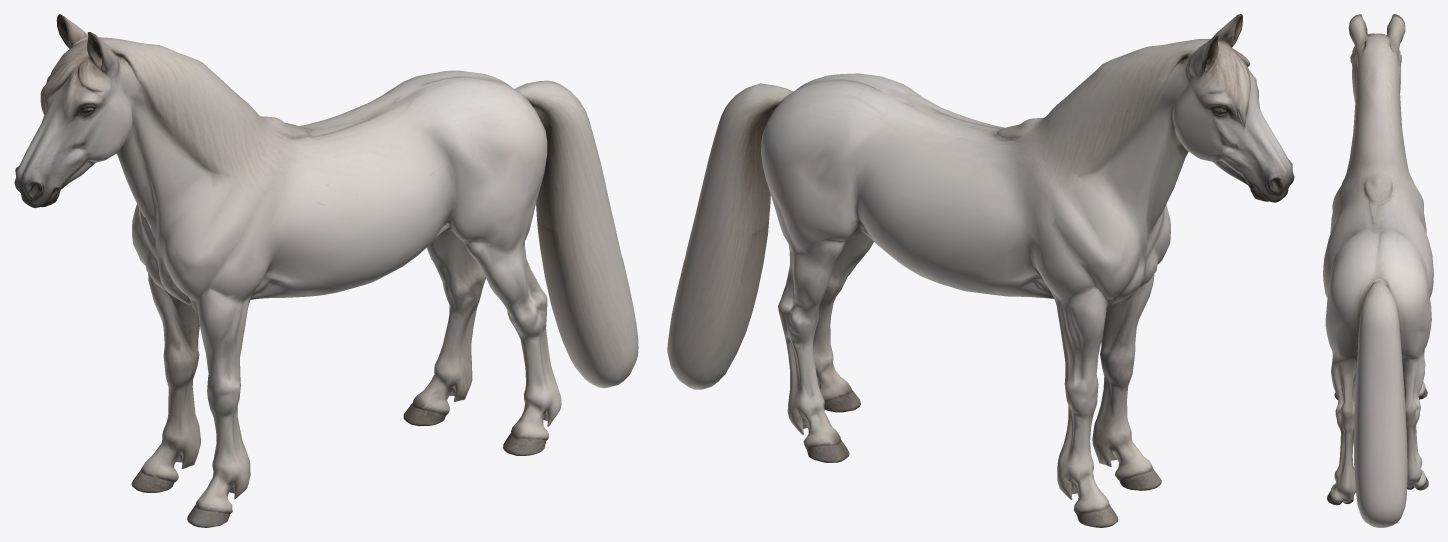
The picture shows the model from 3 angles, left to right: view 1: azimuth 30°, elevation 25°; view 2: azimuth 150°, elevation 25°; view 3: azimuth 270°, elevation 25°; orthographic projection. The views are drawn at different scales.
Visible parts, largest first — view 1: node_0; view 2: node_0; view 3: node_0.
Part boxes in pixels (<box>): node_0: <box>14,14,638,527</box>; node_0: <box>667,14,1294,527</box>; node_0: <box>1323,14,1433,527</box>.
Size of the model in its own units: 1 by 0.7845 by 0.2278.
1 material, 1 textured.
